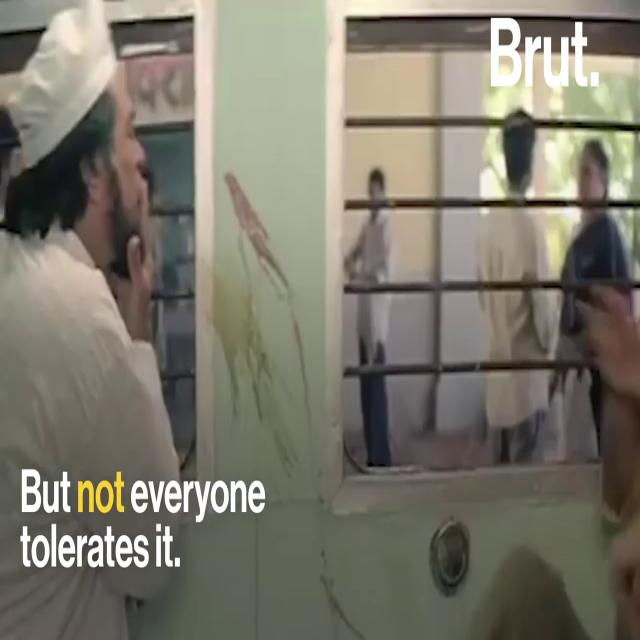spit: (8, 0, 280, 398)
